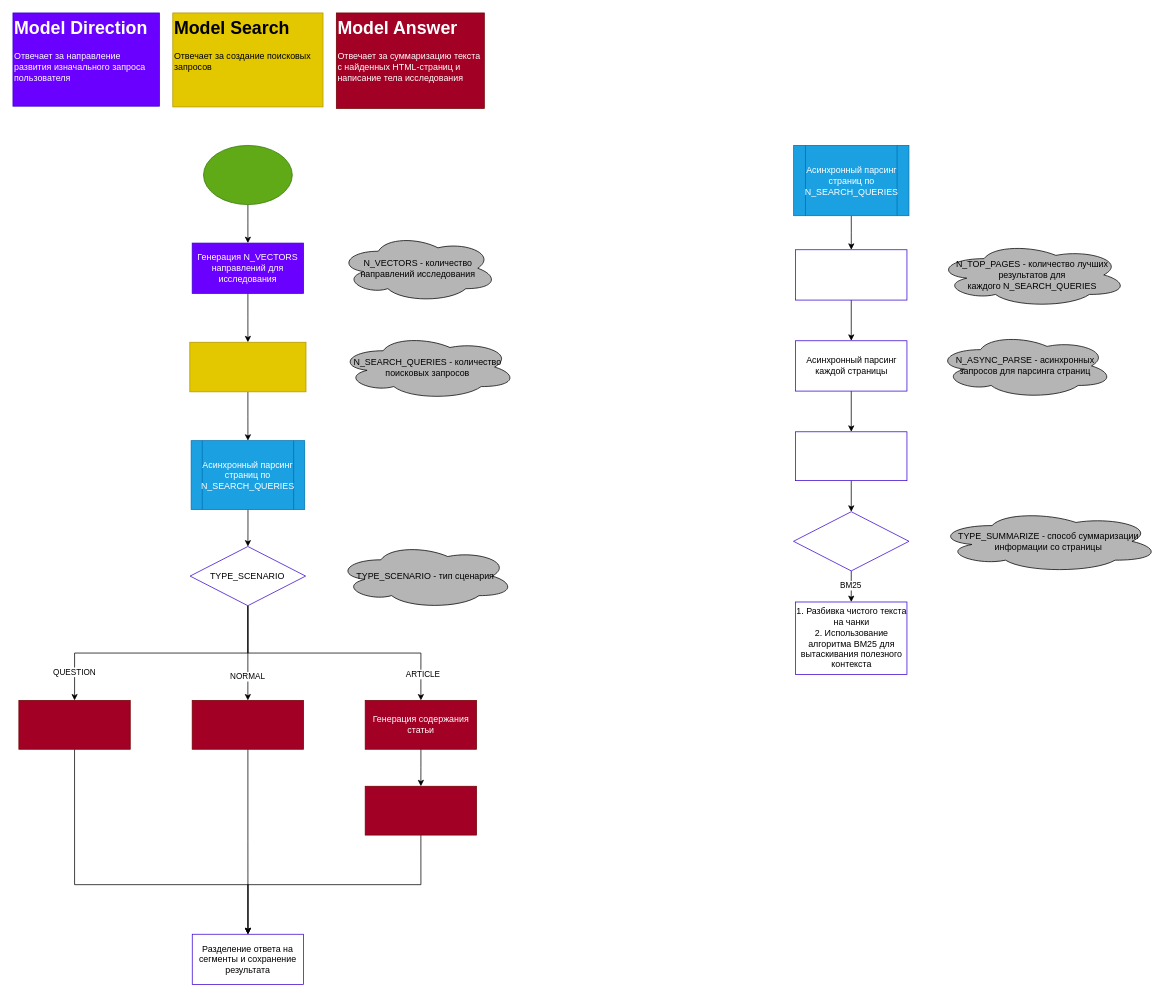
This 1173x998 diagram has some shape labels left out. Here are the shapes that lost their labels. From the top down, the box of each, then its label:
(203, 145, 292, 205): СТАРТ ИССЛЕДОВАНИЯ
(795, 249, 907, 300): Поиск N_TOP_PAGES страниц через SearXNG
(189, 342, 306, 392): Генерация N_SEARCH_QUERIES
(795, 431, 907, 481): Чистка каждого результата от HTML-тегов
(793, 511, 909, 571): TYPE_SUMMARIZE
(18, 700, 130, 749): Генерация итогового ответа с помощью промпта для QUESTION
(191, 700, 304, 749): Генерация итогового ответа с помощью промпта для NORMAL
(364, 786, 477, 835): Поэтапная генерация каждой главы
